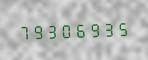five: (115, 18, 128, 38)
nine: (31, 21, 44, 41), (87, 19, 100, 39)
seven: (17, 21, 30, 41)
six: (73, 20, 86, 39)
three: (45, 21, 58, 40), (101, 19, 114, 38)
zero: (59, 20, 72, 40)
